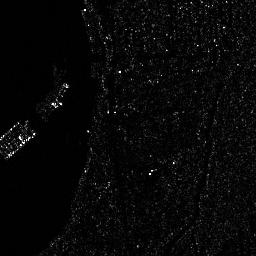ship: (51, 82, 70, 107)
